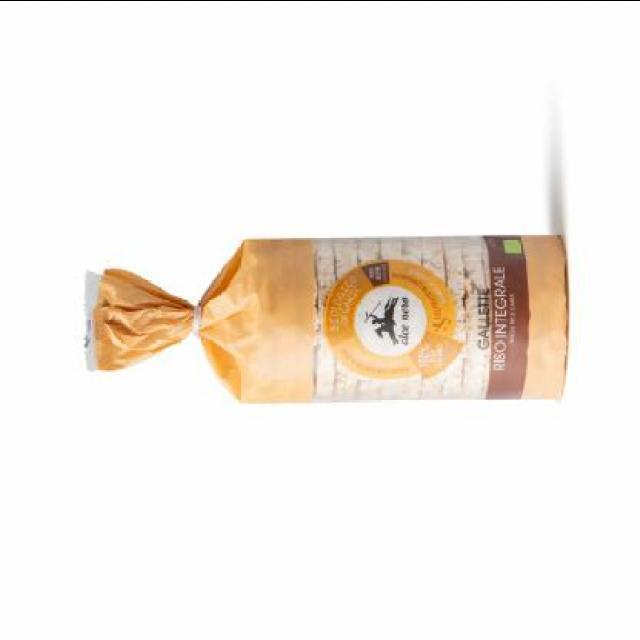Gallette di riso: (79, 230, 572, 410)
